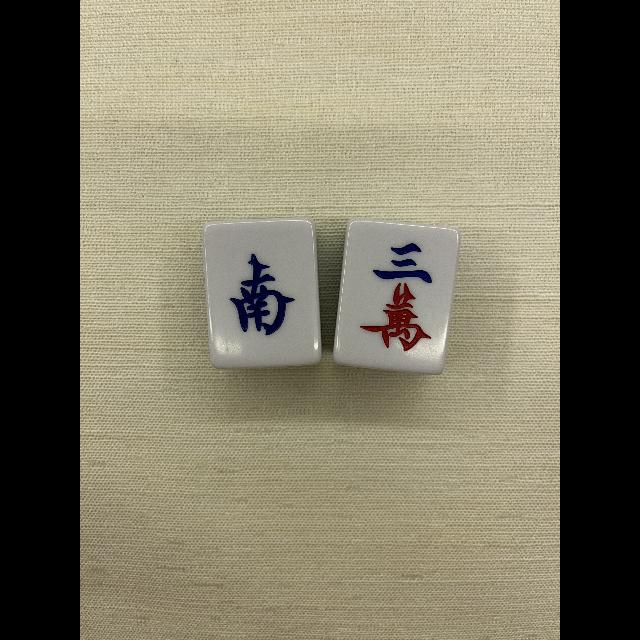c3: (340, 224, 452, 368)
ws: (207, 222, 317, 364)
